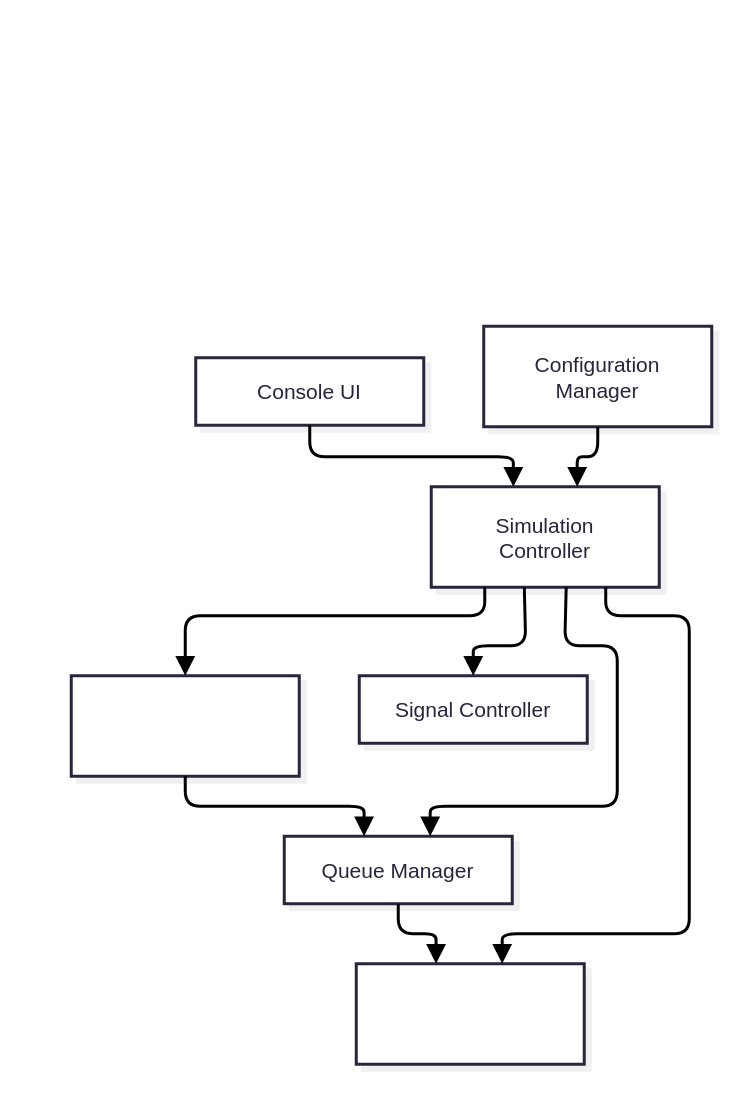
This 744x1097 diagram has some shape labels left out. Each missing label, with the centre of its shape:
"Report Generator" belongs at pixel 472 1016.
"Vehicle Generator" belongs at pixel 187 728.
